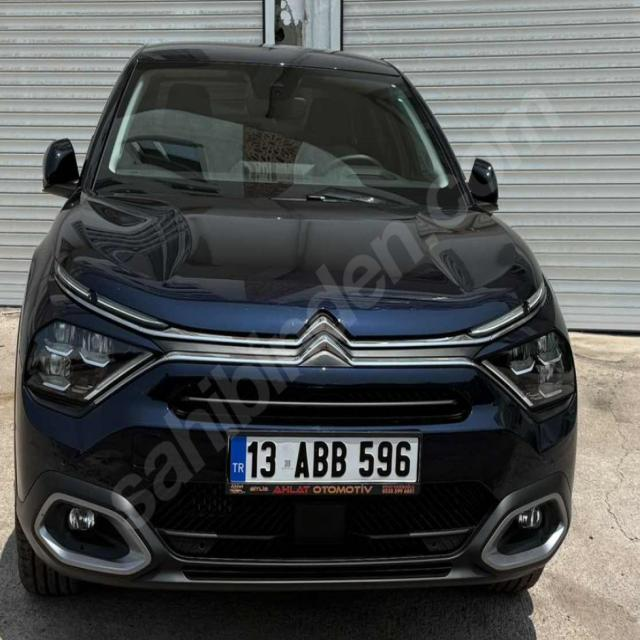citroen: (294, 297, 357, 381)
